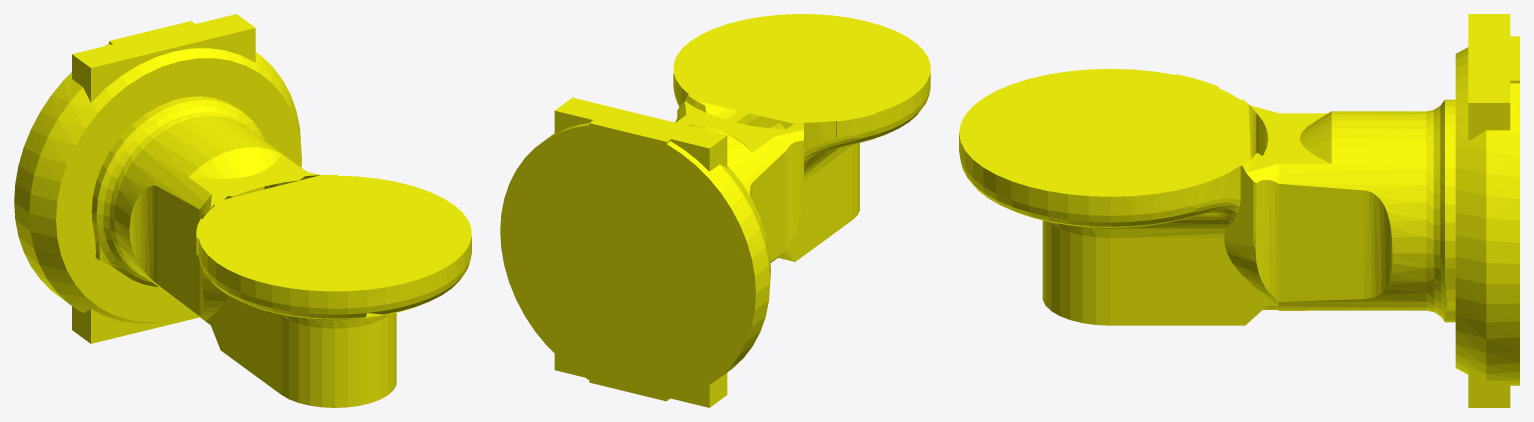
The picture shows the model from 3 angles, left to right: view 1: azimuth 30°, elevation 25°; view 2: azimuth 150°, elevation 25°; view 3: azimuth 270°, elevation 25°; orthographic projection. The views are drawn at different scales.
Visible parts, largest first — view 1: node; view 2: node; view 3: node.
Part boxes in pixels (x1=…): node: x1=14, y1=14, x2=471, y2=407; node: x1=500, y1=14, x2=930, y2=407; node: x1=959, y1=14, x2=1519, y2=407.
Size of the model in its own units: 165 by 160 by 266.
